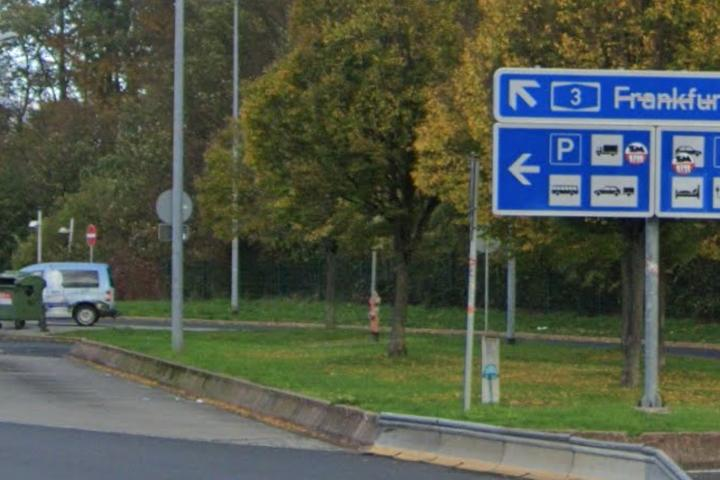traffic_sign: (85, 224, 96, 246)
